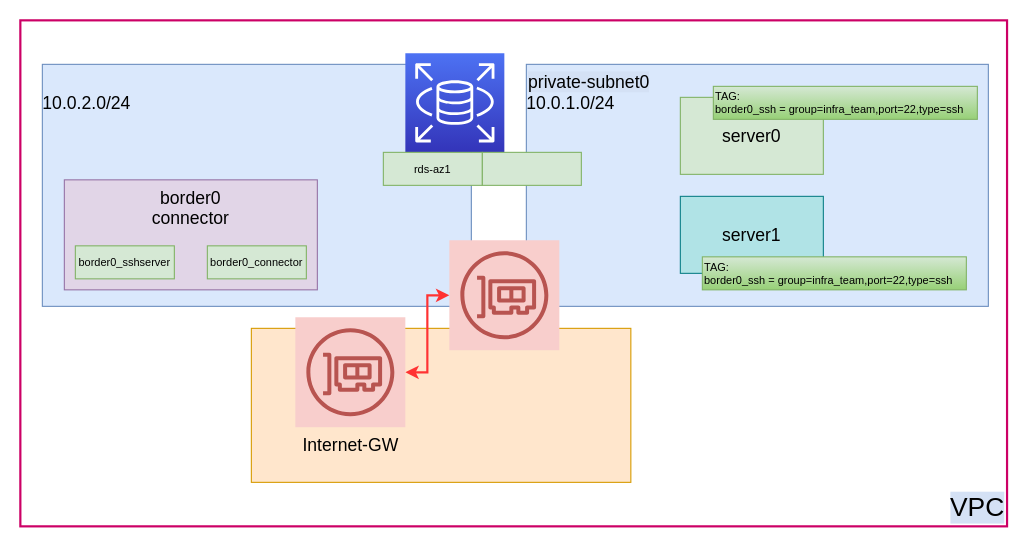
The diagram is 1026 pixels wide and 546 high, and some of its shapes have lost their labels. Here are the shapes that lost their labels. From the top down, the box of each, then its label:
(41, 63, 471, 306): private-subnet1
(481, 151, 581, 185): rds-az2
(448, 239, 559, 350): NAT-GW
(250, 327, 631, 482): public-subnet
